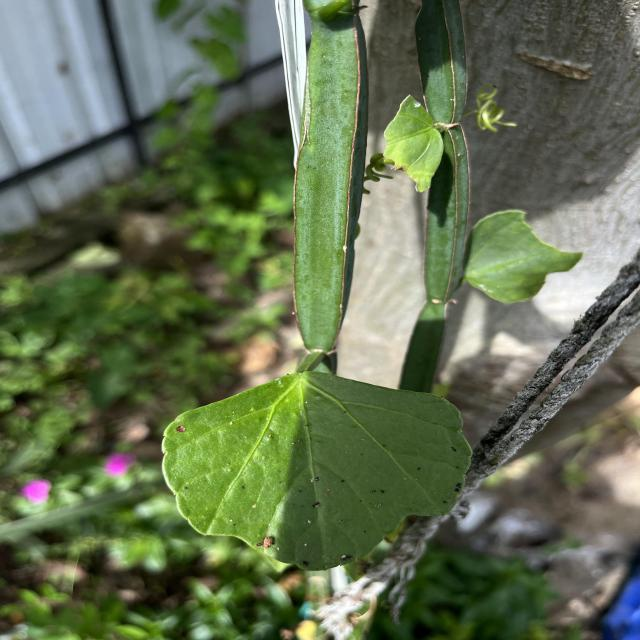Cissus quadrangularis: (153, 366, 476, 574)
